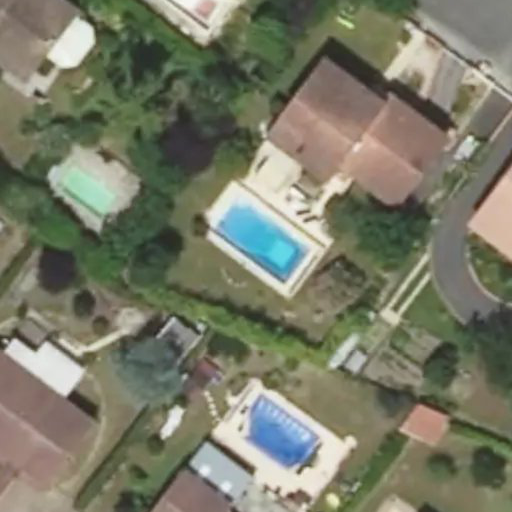pool: (215, 200, 310, 286), (240, 395, 321, 473), (57, 169, 118, 221)
